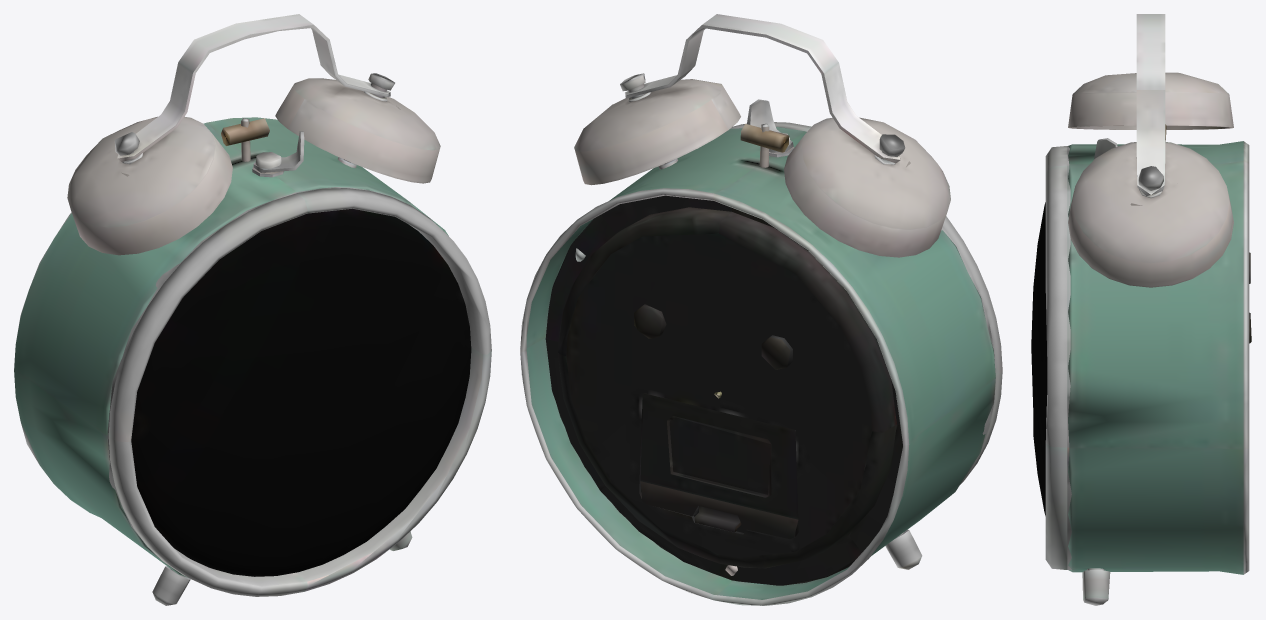
The model's file is alarm_clock_01.glb.
The picture shows the model from 3 angles, left to right: view 1: azimuth 30°, elevation 25°; view 2: azimuth 150°, elevation 25°; view 3: azimuth 270°, elevation 25°; orthographic projection. The views are drawn at different scales.
Parts seen in each view (by area): view 1: alarm_clock_01; view 2: alarm_clock_01; view 3: alarm_clock_01.
Part boxes in pixels (bbox=[...]): alarm_clock_01: bbox=[14, 14, 491, 605]; alarm_clock_01: bbox=[520, 14, 1002, 605]; alarm_clock_01: bbox=[1031, 14, 1251, 605].
Bounding box in the file's own units: 0.1312 × 0.1738 × 0.0666.
2 materials, 2 textured.
